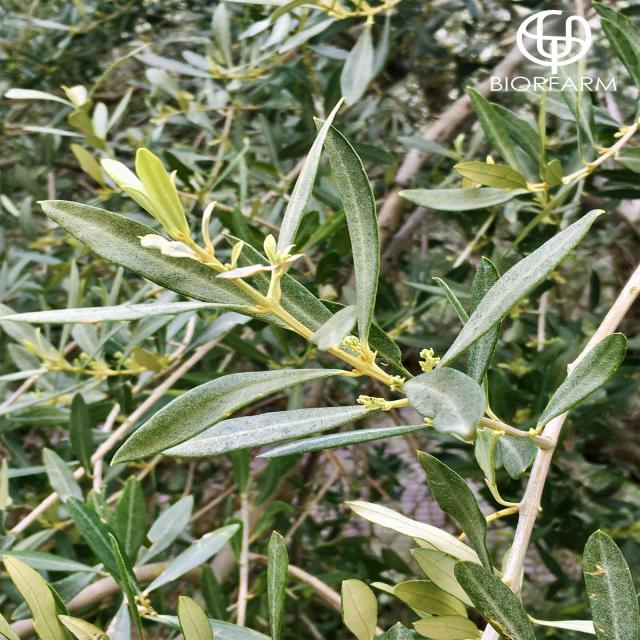Healthy: (437, 210, 604, 367), (40, 200, 257, 305), (111, 368, 345, 464), (324, 126, 379, 344), (163, 405, 371, 457), (419, 452, 493, 572), (258, 423, 428, 459), (4, 556, 68, 640), (341, 580, 378, 640)
